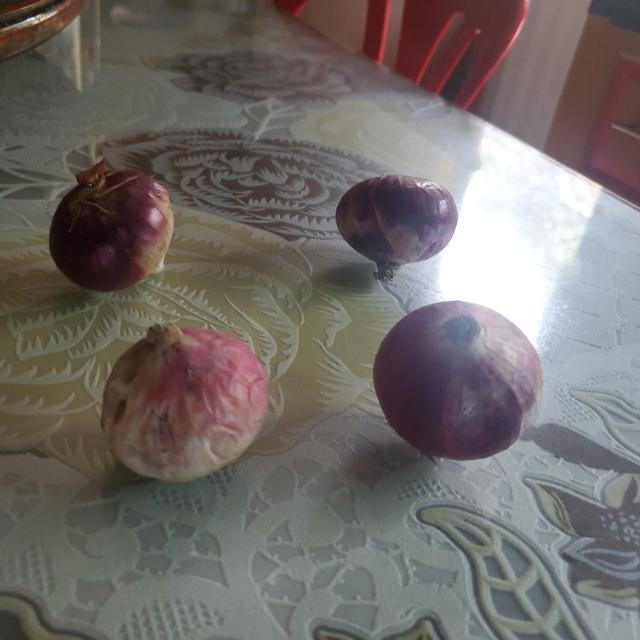onion: (98, 322, 269, 482), (371, 298, 541, 456), (47, 161, 175, 291), (338, 175, 454, 278)
